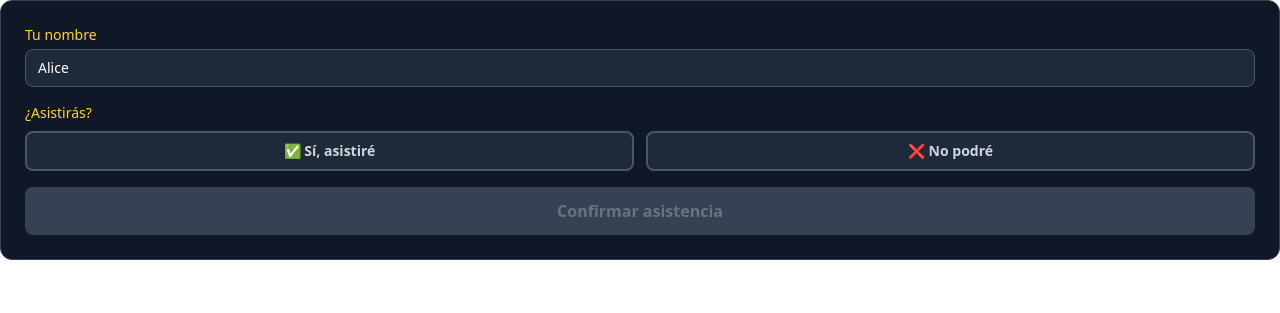
Test: RsvpForm › shows error message after failed submission
What coordinates should you click on to do the following:
click the button "✅ Sí, asistiré"
I would click on:
 (330, 151)
Its box is x1=25 y1=131 x2=634 y2=171.
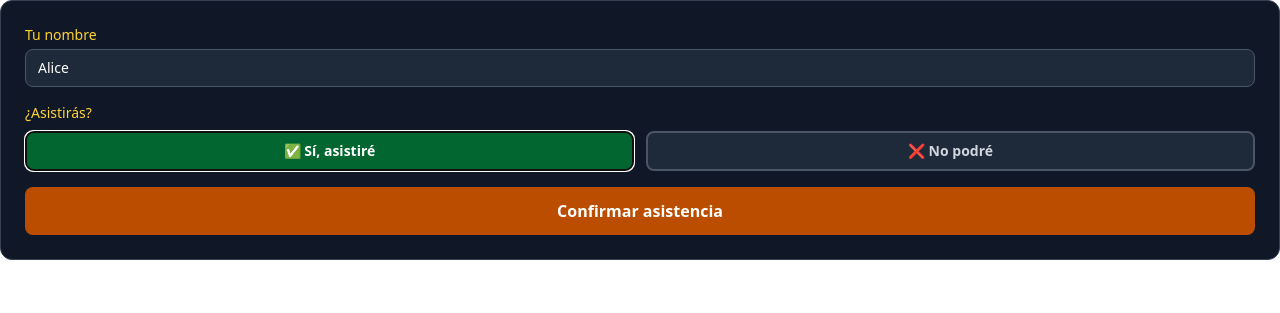
What coordinates should you click on to do the following:
click the button "Confirmar asistencia"
I would click on:
 (640, 211)
Its box is x1=25 y1=187 x2=1255 y2=235.
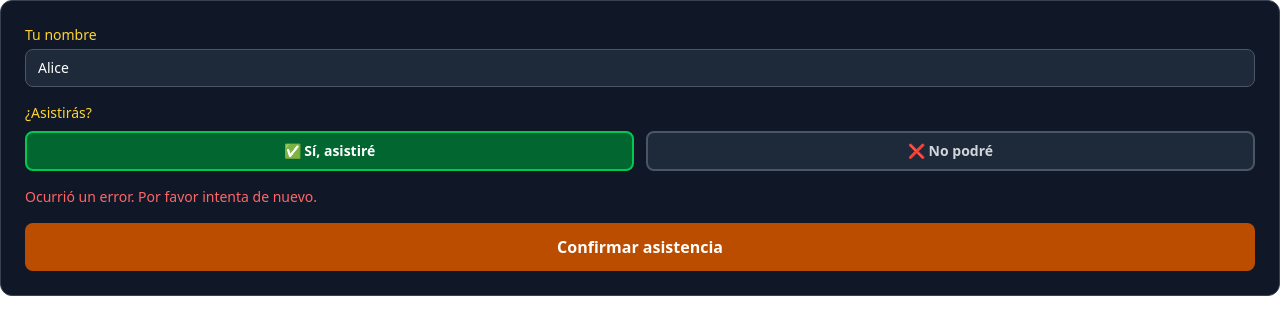
Expected: the text "Ocurrió un error. Por favor intenta de nuevo." is shown, x1=25 y1=187 x2=317 y2=206
